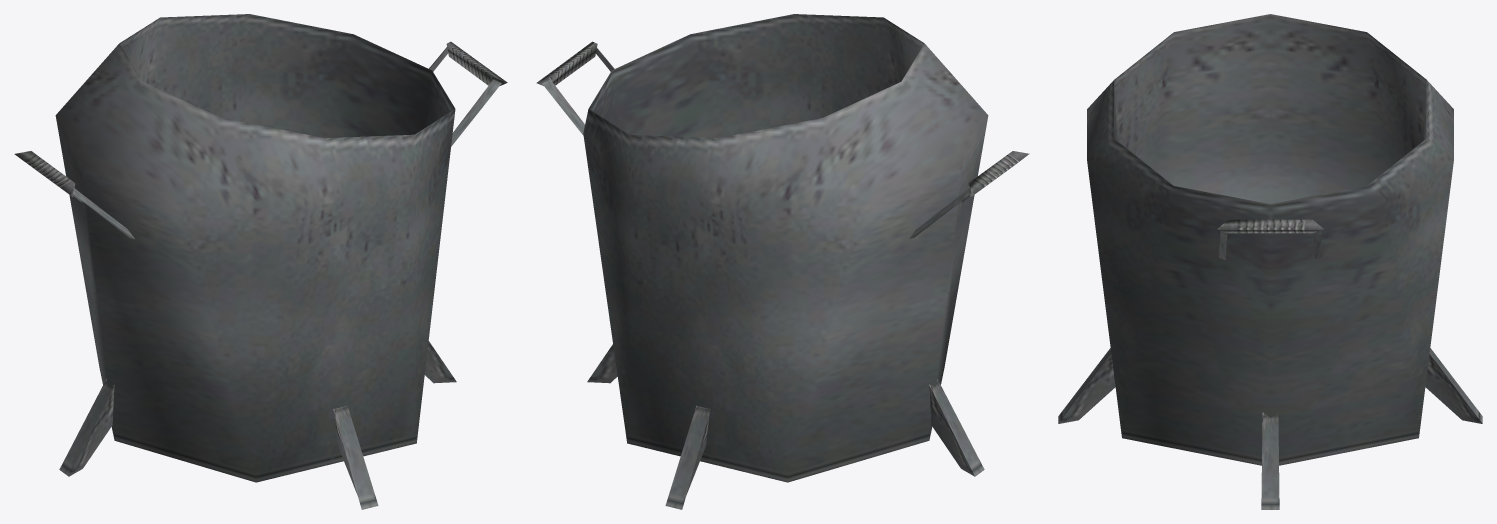
File: eqp_cook_pot_lg_l1.fbx
3 views of the same model, side by side, from view 1: azimuth 30°, elevation 25°; view 2: azimuth 150°, elevation 25°; view 3: azimuth 270°, elevation 25° (orthographic). The views are drawn at different scales.
Visible parts, largest first — view 1: mesh_node; view 2: mesh_node; view 3: mesh_node.
Part boxes in pixels (x1,y1,x2,y2): mesh_node: (14,14,507,509); mesh_node: (536,14,1029,509); mesh_node: (1058,14,1482,509).
Bounding box in the file's own units: 0.3433 × 0.2793 × 0.3045.
Materials: 1 (1 with a texture image).
